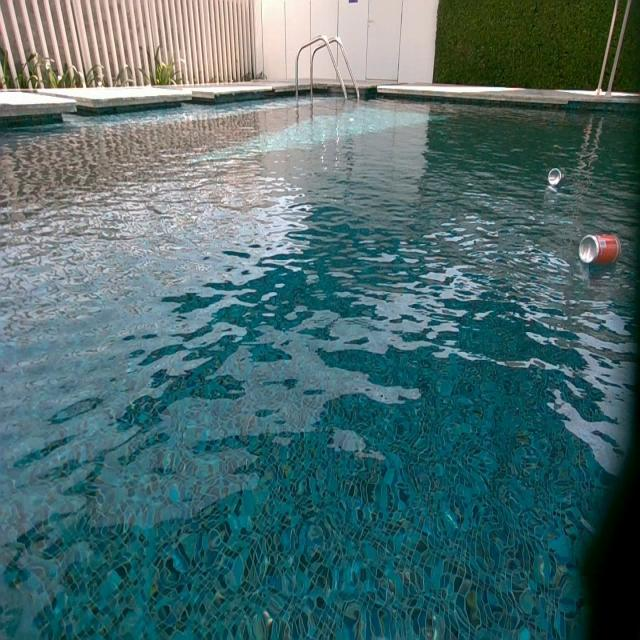Cans: (580, 234, 621, 268), (550, 168, 565, 189)
